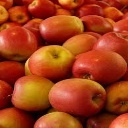apple: (8, 76, 57, 112)
